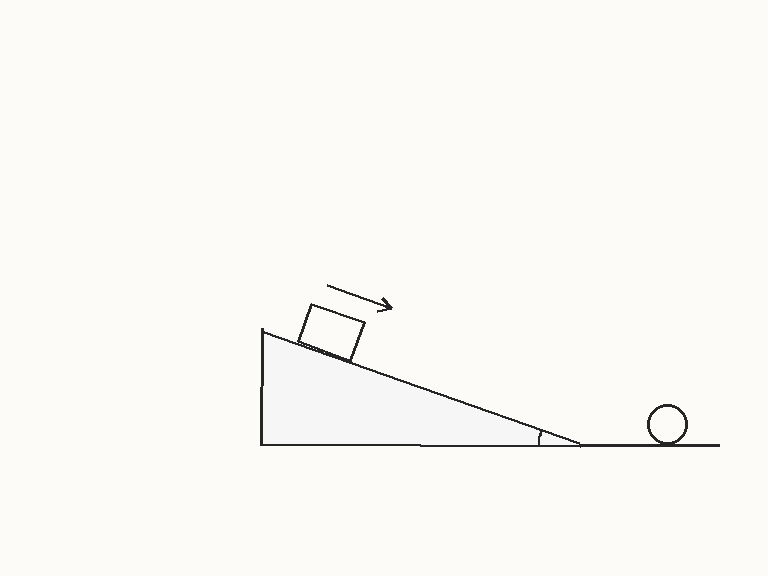ball: (645, 402, 689, 446)
block: (296, 301, 366, 363)
ramp: (259, 326, 581, 446)
